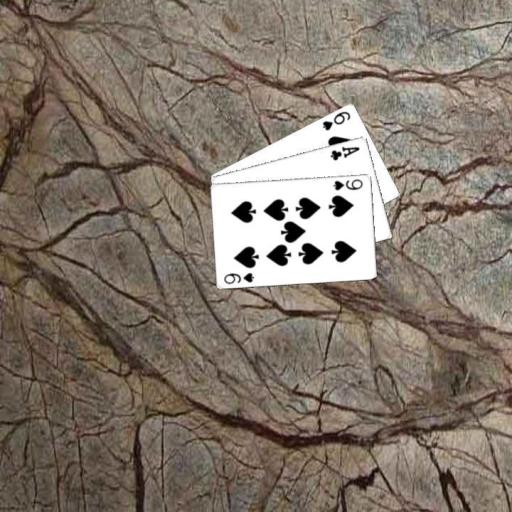6S: (319, 108, 352, 132)
9S: (330, 176, 365, 191), (221, 270, 255, 285)
AC: (328, 143, 361, 161)
